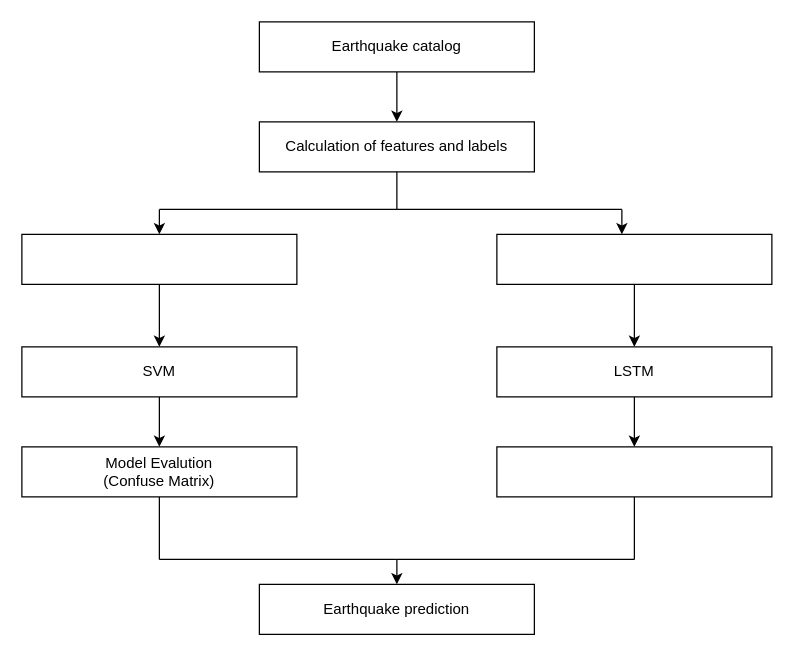
This 794x656 diagram has some shape labels left out. The box of each missing label's shape, as (x1, y1, x2, y2) in pixels:
Magnitude prediction: (496, 233, 772, 284)
Model evaluation (MSE,MAE,RMSE): (496, 446, 772, 497)
Strong earthquake occurrence and classification: (21, 233, 297, 284)
